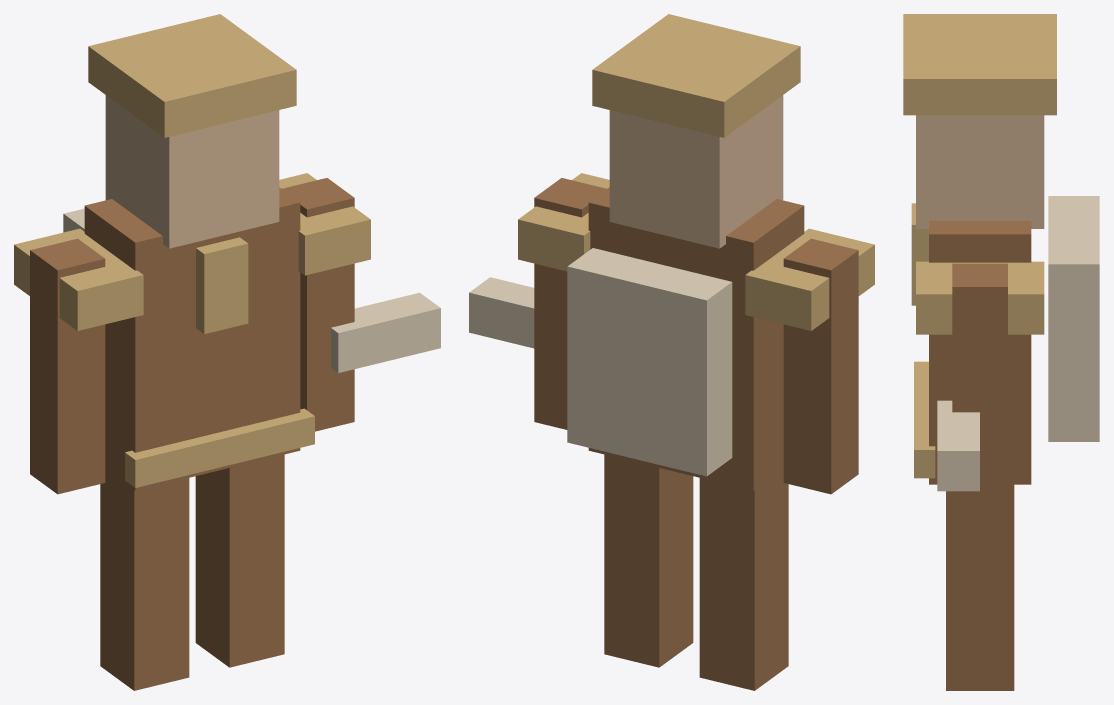
Rendered from 19_cassian_chromabell_diver_of_silent.glb.
3 renders of one model, left to right at view 1: azimuth 30°, elevation 25°; view 2: azimuth 150°, elevation 25°; view 3: azimuth 270°, elevation 25°, orthographic.
Parts seen in each view (by area): view 1: Cassian Chromabell, Diver of Silent; view 2: Cassian Chromabell, Diver of Silent; view 3: Cassian Chromabell, Diver of Silent.
Boxes of the visible parts, x1,y1,x2,y2 form: Cassian Chromabell, Diver of Silent: [14, 14, 440, 690]; Cassian Chromabell, Diver of Silent: [469, 14, 874, 690]; Cassian Chromabell, Diver of Silent: [903, 14, 1099, 690].
Bounding box in the file's own units: 1.12 × 1.71 × 0.5027.
